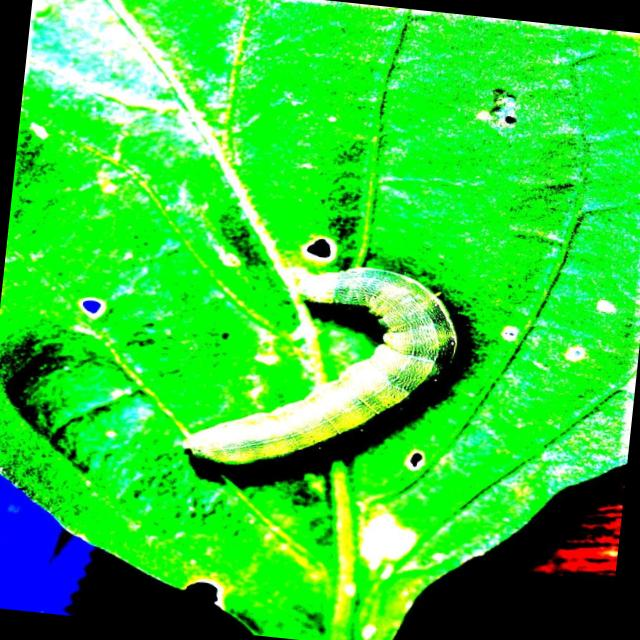Armyworm: (148, 234, 492, 494)
Armyworm_damage: (358, 419, 467, 517), (158, 545, 245, 621), (64, 263, 139, 338), (289, 231, 341, 263)
